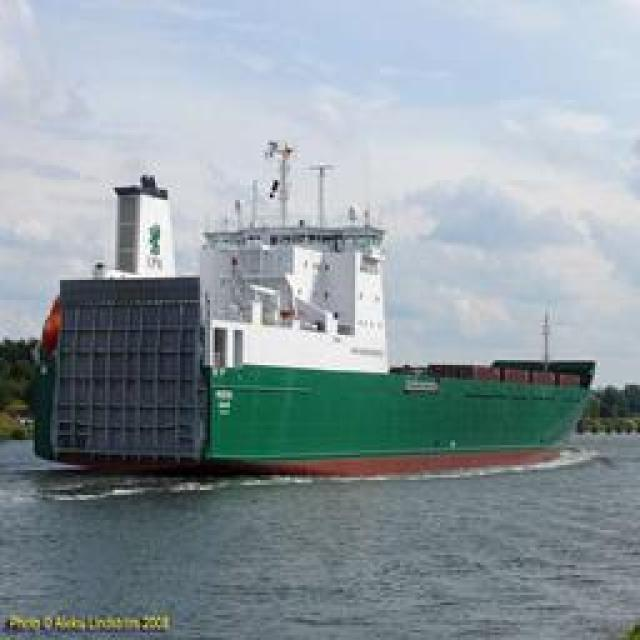CIV_Ship: (38, 160, 592, 480)
